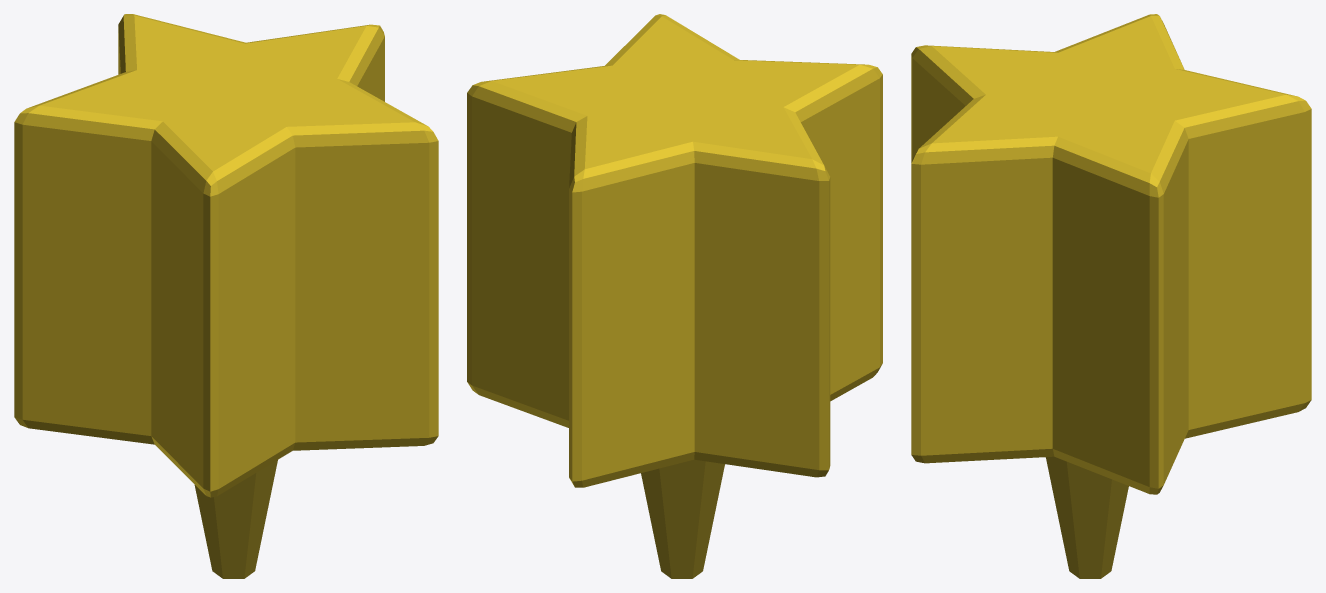
The model's file is pin_3.fbx.
3 renders of one model, left to right at view 1: azimuth 30°, elevation 25°; view 2: azimuth 150°, elevation 25°; view 3: azimuth 270°, elevation 25°, orthographic. The views are drawn at different scales.
Visible parts, largest first — view 1: Pin3; view 2: Pin3; view 3: Pin3.
Boxes of the visible parts, x1,y1,x2,y2 form: Pin3: [14, 14, 438, 578]; Pin3: [467, 14, 882, 578]; Pin3: [911, 14, 1311, 578].
Size of the model in its own units: 9.01 by 11.26 by 8.57.
